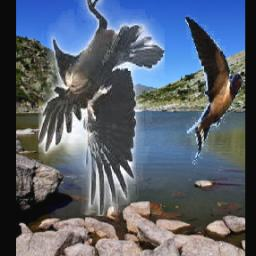Crow: (39, 0, 166, 216)
Swallow: (186, 16, 244, 166)
